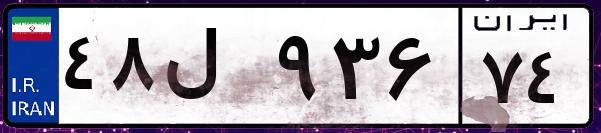3: (330, 28, 385, 110)
4: (57, 26, 110, 100), (525, 38, 570, 115)
6: (385, 28, 445, 110)
7: (475, 38, 525, 113)
8: (110, 28, 158, 98)
9: (270, 28, 330, 110)
ل: (158, 20, 270, 120)
